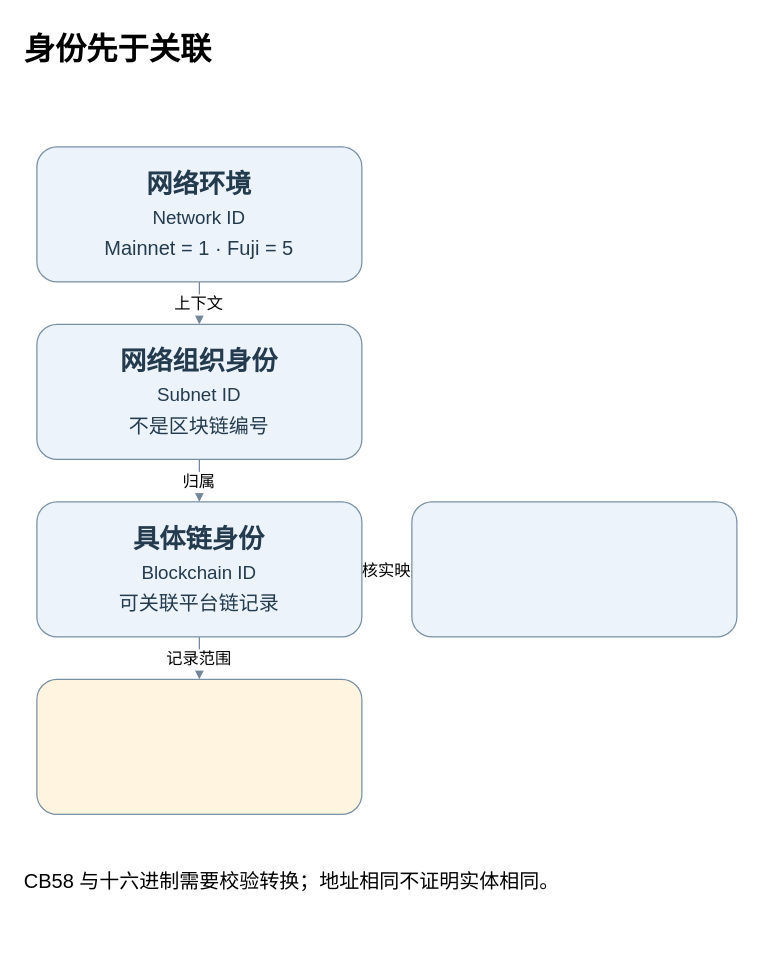
The diagram is 773 pixels wide and 969 high, and some of its shapes have lost their labels. The centre of each missing label's shape, as x and y in pixels:
EVM 签名环境 EVM Chain ID 需经核实映射: the point at 574,569
交易与子记录 Tx / Index / Path 按对象扩展身份键: the point at 199,746
